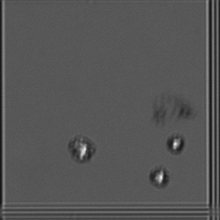Living Cell: (68, 131, 99, 167), (145, 164, 174, 190), (165, 130, 188, 154)
